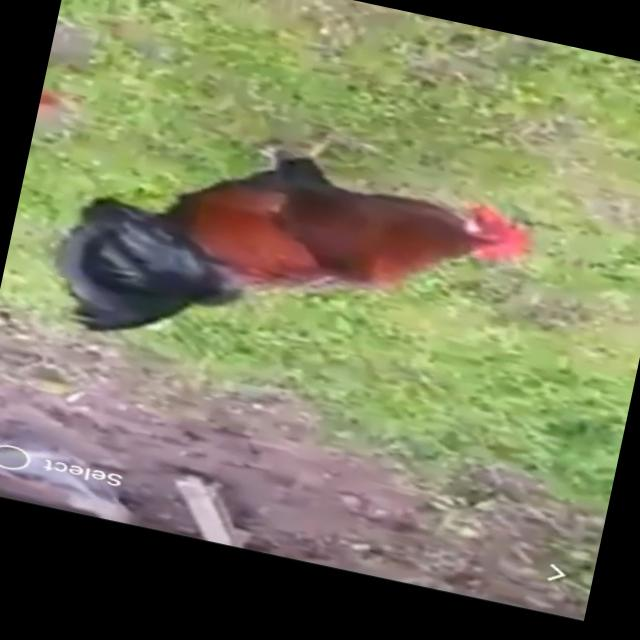feeding: (50, 92, 542, 431)
